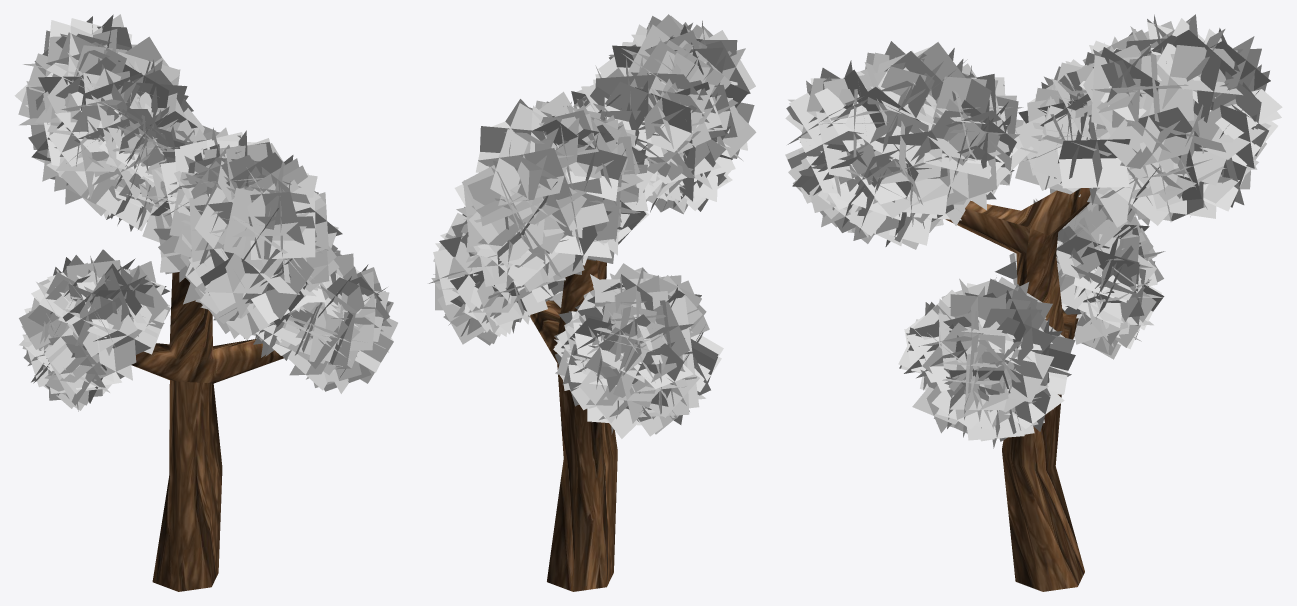
Rendered from DenseTreeDesignLOD.fbx.
3 renders of one model, left to right at view 1: azimuth 30°, elevation 25°; view 2: azimuth 150°, elevation 25°; view 3: azimuth 270°, elevation 25°, orthographic. The views are drawn at different scales.
Visible parts, largest first — view 1: LeafQuad_LOD0, TreeQuad; view 2: LeafQuad_LOD0, TreeQuad; view 3: LeafQuad_LOD0, TreeQuad.
Boxes of the visible parts, left/top/right/bottom form: LeafQuad_LOD0: left=14, top=14, right=397, bottom=411; TreeQuad: left=131, top=272, right=283, bottom=591; LeafQuad_LOD0: left=428, top=14, right=756, bottom=438; TreeQuad: left=530, top=259, right=617, bottom=591; LeafQuad_LOD0: left=785, top=14, right=1282, bottom=448; TreeQuad: left=945, top=188, right=1090, bottom=591.
Size of what is drawn, in the model's own units: 13.28 by 21.12 by 17.51.
